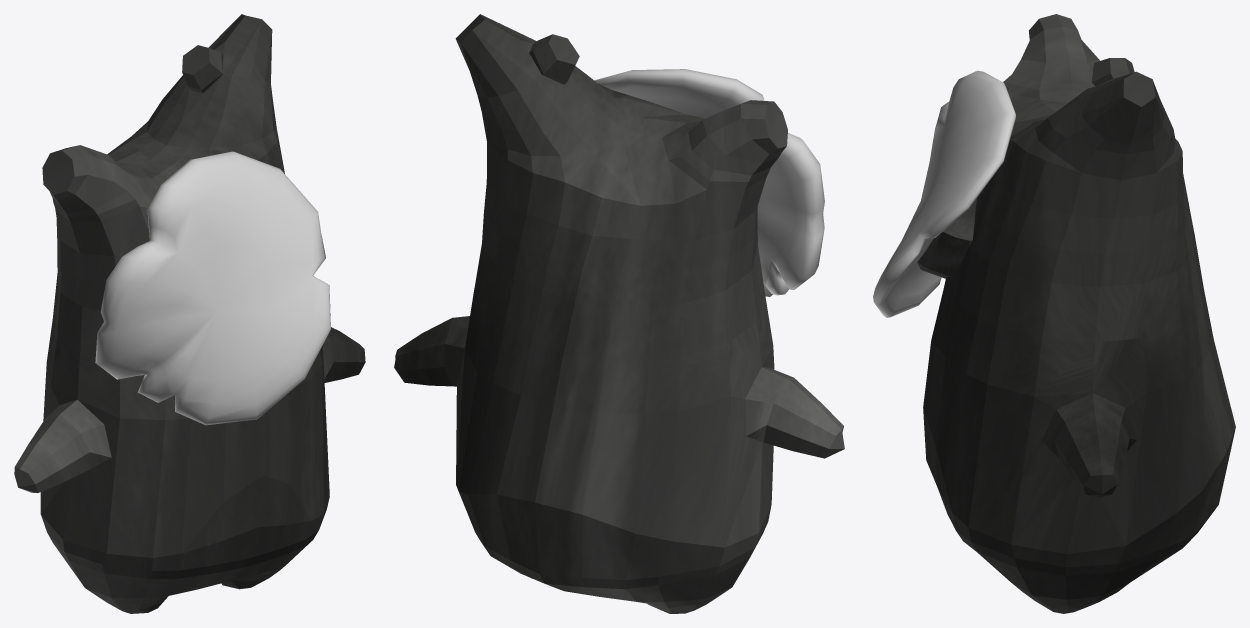
File: frame_0057.obj
3 renders of one model, left to right at view 1: azimuth 30°, elevation 25°; view 2: azimuth 150°, elevation 25°; view 3: azimuth 270°, elevation 25°, orthographic. The views are drawn at different scales.
Visible parts, largest first — view 1: korok, leaf; view 2: korok, leaf; view 3: korok, leaf, nose.
Boxes of the visible parts, x1,y1,x2,y2 form: korok: (14,14,365,613); leaf: (95,151,330,425); korok: (394,14,844,613); leaf: (594,69,824,296); korok: (923,14,1235,613); leaf: (873,70,1015,317); nose: (917,198,976,278).
Bounding box in the file's own units: 1.7 × 2.29 × 1.35.
